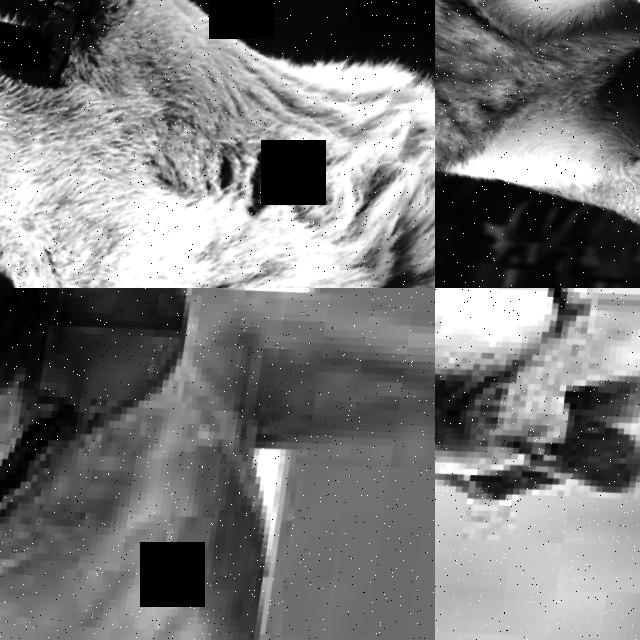dog: (0, 288, 435, 640), (435, 288, 640, 571)
wolf: (0, 0, 435, 288), (435, 0, 640, 288)
